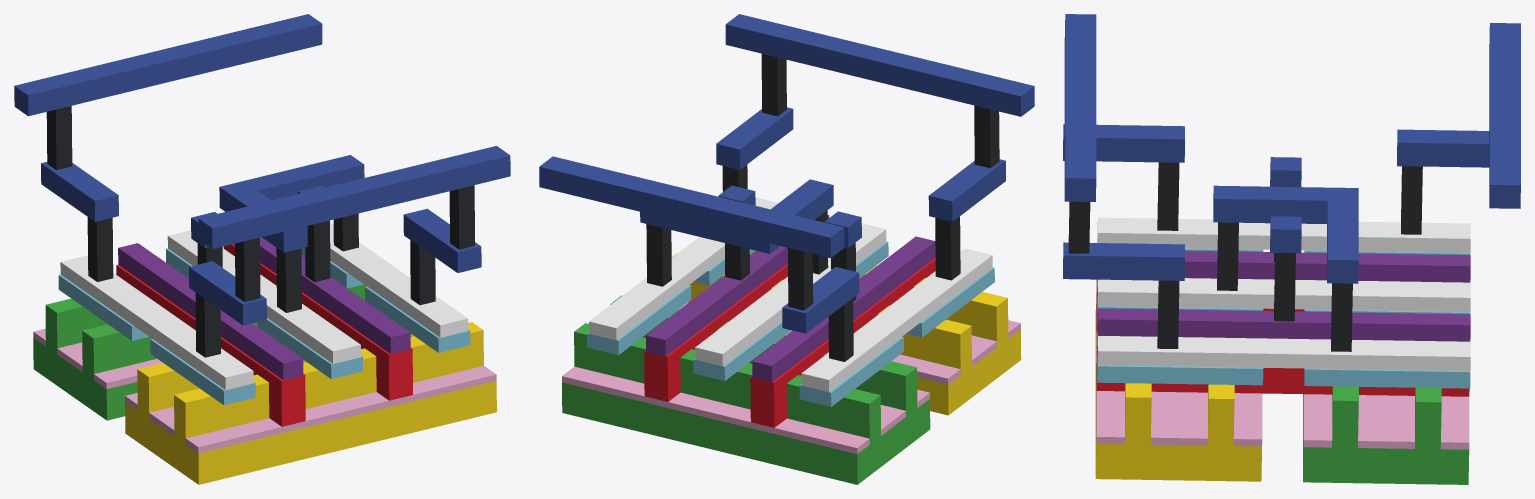
Rendered from 5nor.obj.
The picture shows the model from 3 angles, left to right: view 1: azimuth 30°, elevation 25°; view 2: azimuth 150°, elevation 25°; view 3: azimuth 270°, elevation 25°; orthographic projection. The views are drawn at different scales.
Parts seen in each view (by area): view 1: group_0_3888547, group_0_16768282, group_0_16448250, group_0_2829873, group_0_8273816, group_0_4634441, group_0_8768998, group_0_15708628, group_0_15277357; view 2: group_0_3888547, group_0_4634441, group_0_16448250, group_0_2829873, group_0_8273816, group_0_16768282, group_0_15708628, group_0_8768998, group_0_15277357; view 3: group_0_3888547, group_0_16448250, group_0_8273816, group_0_15708628, group_0_2829873, group_0_16768282, group_0_4634441, group_0_8768998, group_0_15277357.
Part boxes in pixels (left/top/right/bottom): group_0_3888547: left=14, top=14, right=510, bottom=325; group_0_16768282: left=125, top=322, right=496, bottom=484; group_0_16448250: left=60, top=222, right=468, bottom=389; group_0_2829873: left=46, top=106, right=474, bottom=357; group_0_8273816: left=118, top=237, right=410, bottom=380; group_0_4634441: left=33, top=284, right=366, bottom=420; group_0_8768998: left=58, top=247, right=470, bottom=405; group_0_15708628: left=33, top=328, right=496, bottom=453; group_0_15277357: left=116, top=244, right=412, bottom=426; group_0_3888547: left=539, top=14, right=1034, bottom=333; group_0_4634441: left=562, top=295, right=930, bottom=484; group_0_16448250: left=589, top=197, right=992, bottom=392; group_0_2829873: left=646, top=53, right=999, bottom=361; group_0_8273816: left=646, top=215, right=935, bottom=382; group_0_16768282: left=671, top=250, right=1021, bottom=415; group_0_15708628: left=562, top=302, right=1020, bottom=453; group_0_8768998: left=587, top=241, right=994, bottom=406; group_0_15277357: left=644, top=258, right=935, bottom=427; group_0_3888547: left=1063, top=14, right=1520, bottom=283; group_0_16448250: left=1097, top=217, right=1470, bottom=370; group_0_8273816: left=1097, top=250, right=1470, bottom=341; group_0_15708628: left=1096, top=279, right=1469, bottom=449; group_0_2829873: left=1068, top=162, right=1422, bottom=351; group_0_16768282: left=1095, top=293, right=1261, bottom=481; group_0_4634441: left=1303, top=386, right=1469, bottom=484; group_0_8768998: left=1097, top=238, right=1470, bottom=388; group_0_15277357: left=1096, top=279, right=1469, bottom=396.
Bounding box in the file's own units: 150 × 131 × 177.
